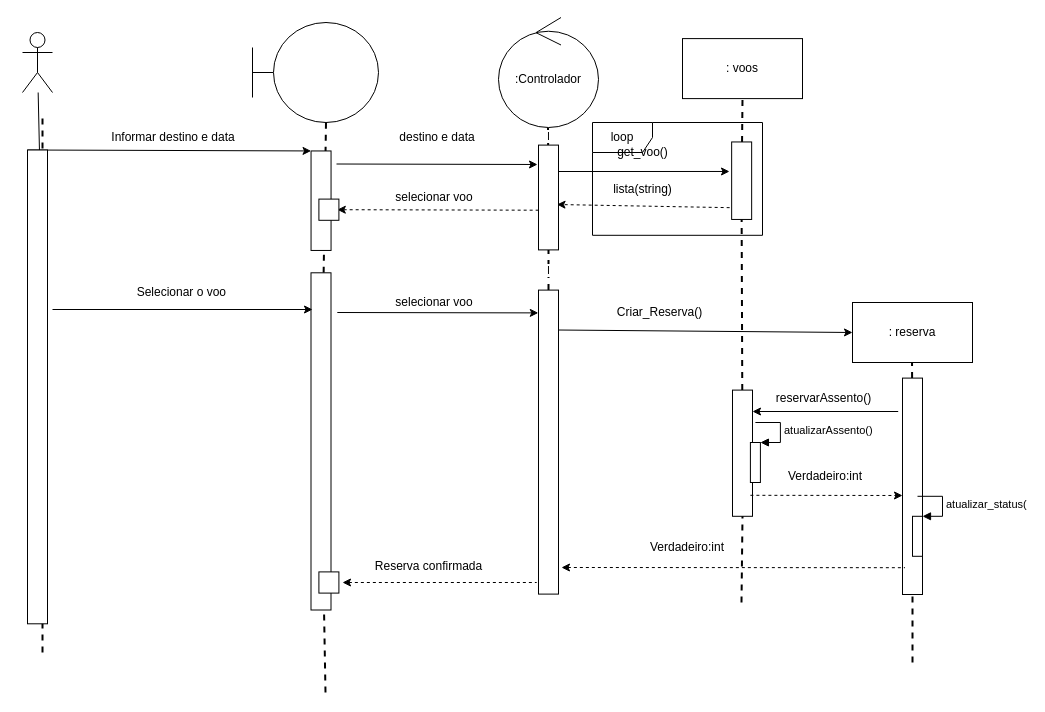
Image size: 1045x712. Some labels were removed from this diagram. Here are the shapes that lost their labels. From the top down, the box of each, then its label:
(22, 32, 52, 92): Usuário
(252, 22, 378, 122): : Interface
